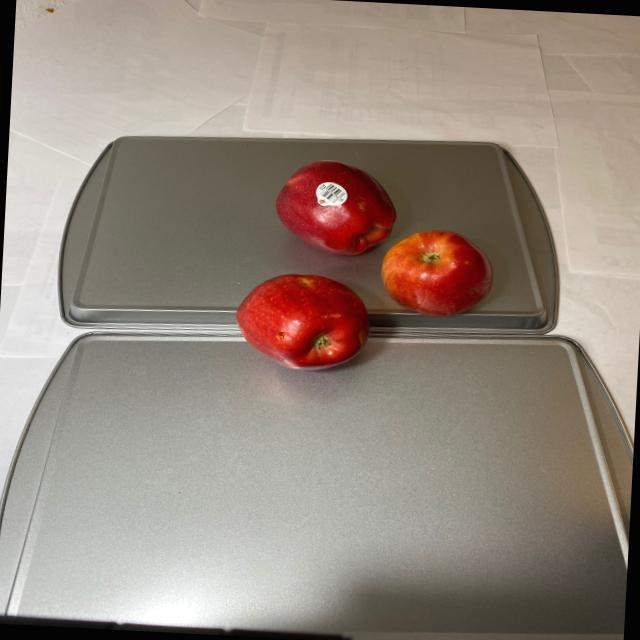apple: (234, 156, 500, 379)
